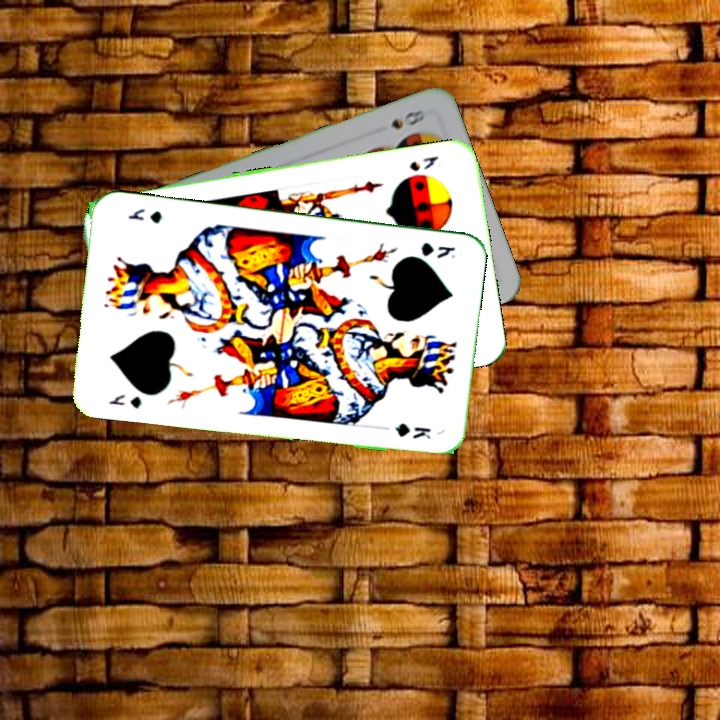GK: (417, 238, 458, 261), (105, 390, 144, 411)
S8: (386, 105, 427, 132)
SK: (405, 152, 441, 174)
